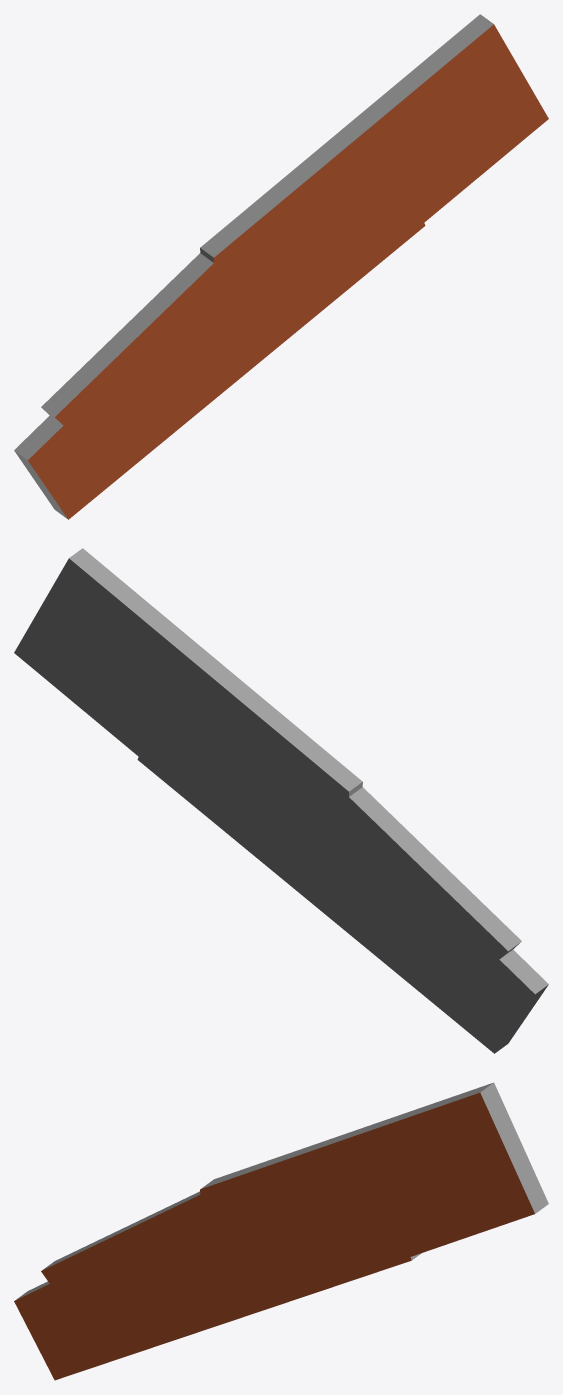
The model's file is construction_0050_assumed_A_Cemiterio_h6m.obj.
3 renders of one model, top to bottom at view 1: azimuth 30°, elevation 25°; view 2: azimuth 150°, elevation 25°; view 3: azimuth 330°, elevation 25°, orthographic.
Parts seen in each view (by area): view 1: construction_0050_assumed_A_Cemiterio; view 2: construction_0050_assumed_A_Cemiterio; view 3: construction_0050_assumed_A_Cemiterio.
Part boxes in pixels (bbox=[...]): construction_0050_assumed_A_Cemiterio: bbox=[14, 14, 548, 519]; construction_0050_assumed_A_Cemiterio: bbox=[14, 548, 548, 1053]; construction_0050_assumed_A_Cemiterio: bbox=[14, 1082, 548, 1380].
Size of the model in its own units: 131 by 94.02 by 6.
